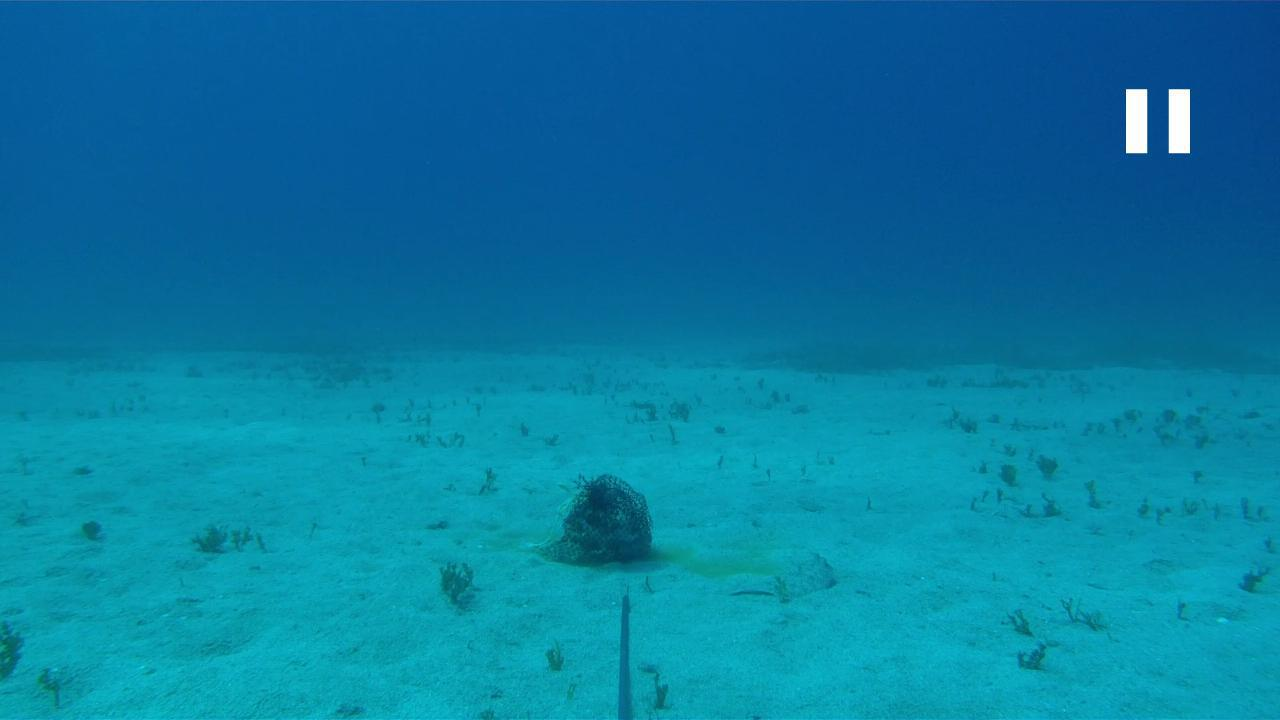bothus: (721, 548, 843, 598)
